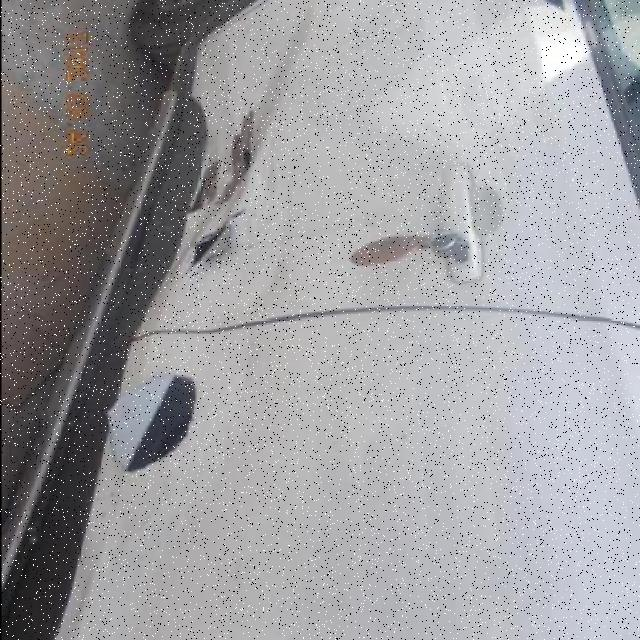damage: (126, 150, 298, 543), (179, 111, 271, 282), (106, 361, 205, 479)
